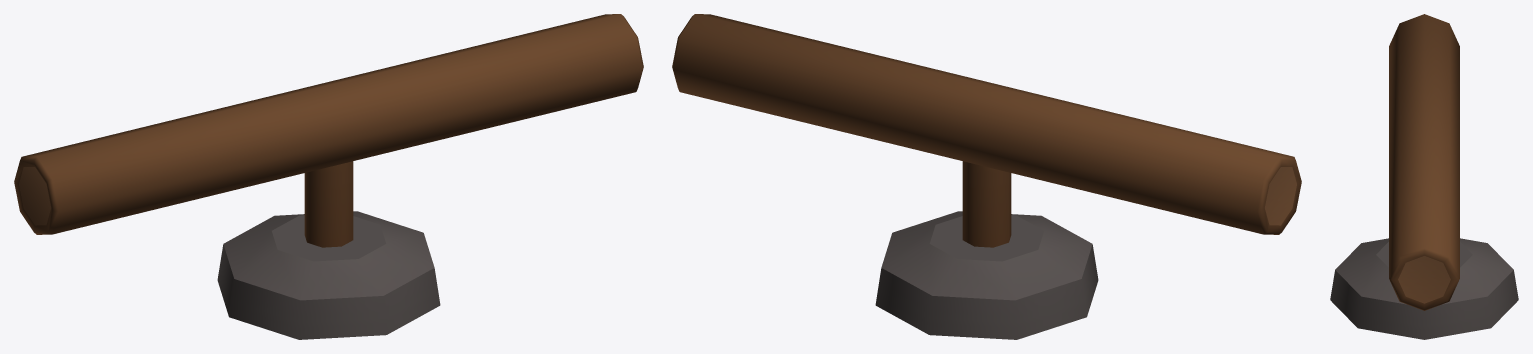
The model's file is BirdPerch.fbx.
3 views of the same model, side by side, from view 1: azimuth 30°, elevation 25°; view 2: azimuth 150°, elevation 25°; view 3: azimuth 270°, elevation 25° (orthographic). The views are drawn at different scales.
Visible parts, largest first — view 1: BirdPerch; view 2: BirdPerch; view 3: BirdPerch.
Boxes of the visible parts, <box> form: BirdPerch: <box>14,14,643,339</box>; BirdPerch: <box>672,14,1301,339</box>; BirdPerch: <box>1330,14,1518,339</box>.
Bounding box in the file's own units: 19.98 × 6.72 × 6.77.
